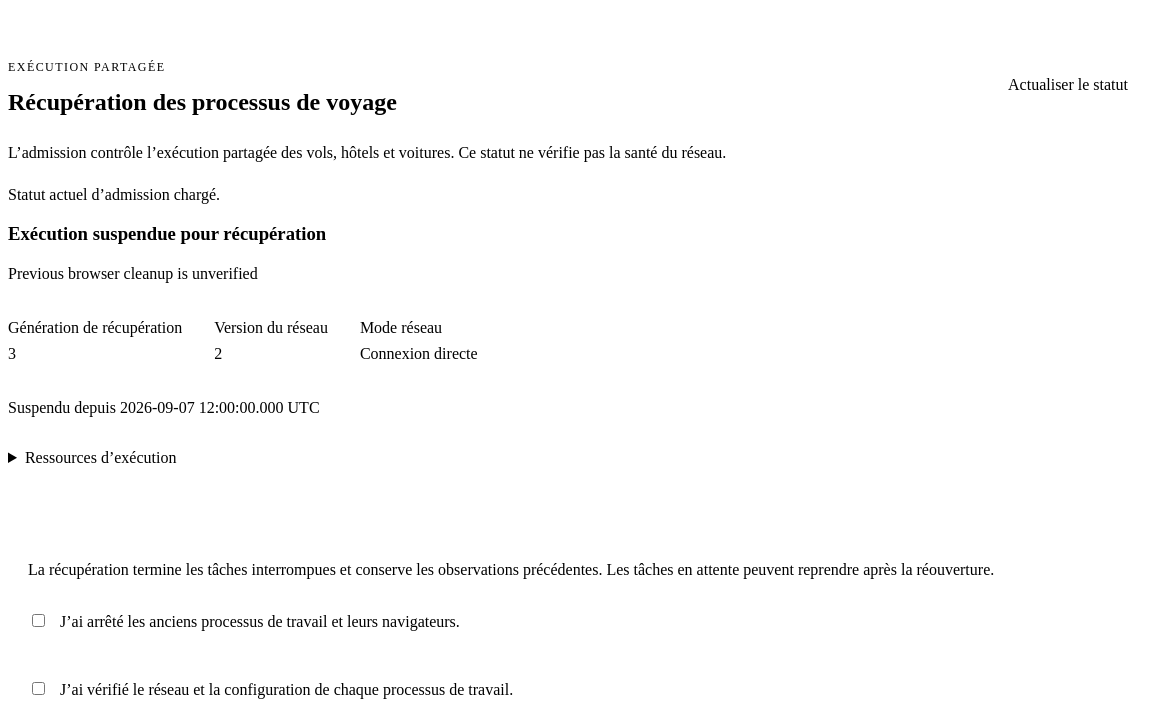
Scenario: explicit administrator travel recovery › requires both operator checks in fr and submits only the current generation
Check: the heading "Exécution suspendue pour récupération" is shown, box [8, 223, 326, 244]
Click the checkbox labelled "J’ai arrêté les anciens processus de travail et leurs navigateurs." at (38, 621), box [32, 614, 45, 627]
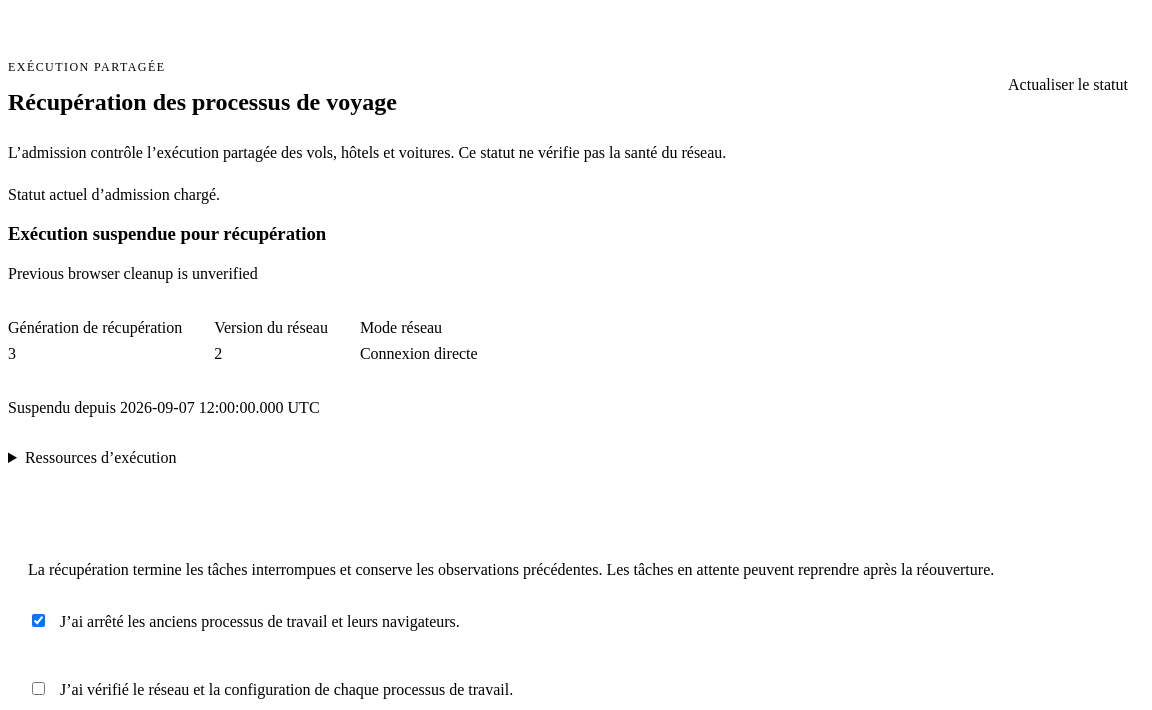
Click the checkbox labelled "J’ai vérifié le réseau et la configuration de chaque processus de travail." at (38, 689), box [32, 682, 45, 695]
(page scrolled)
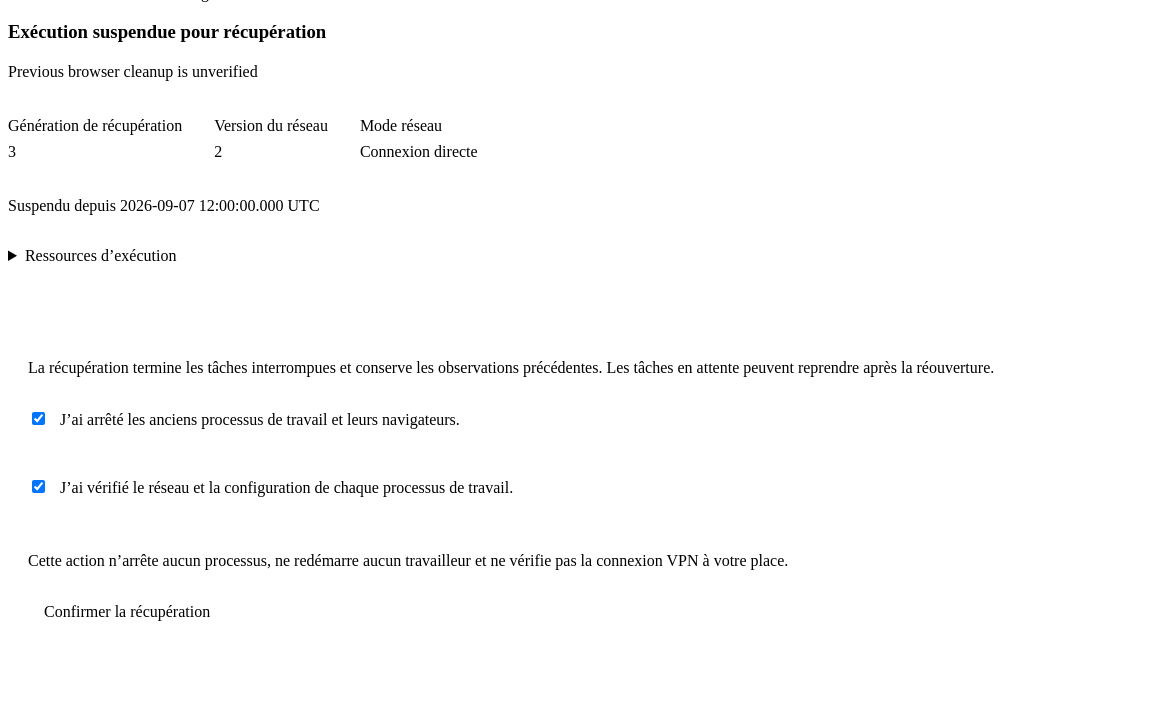
Click the button "Confirmer la récupération" at (127, 612), box [28, 590, 226, 634]
(page scrolled)
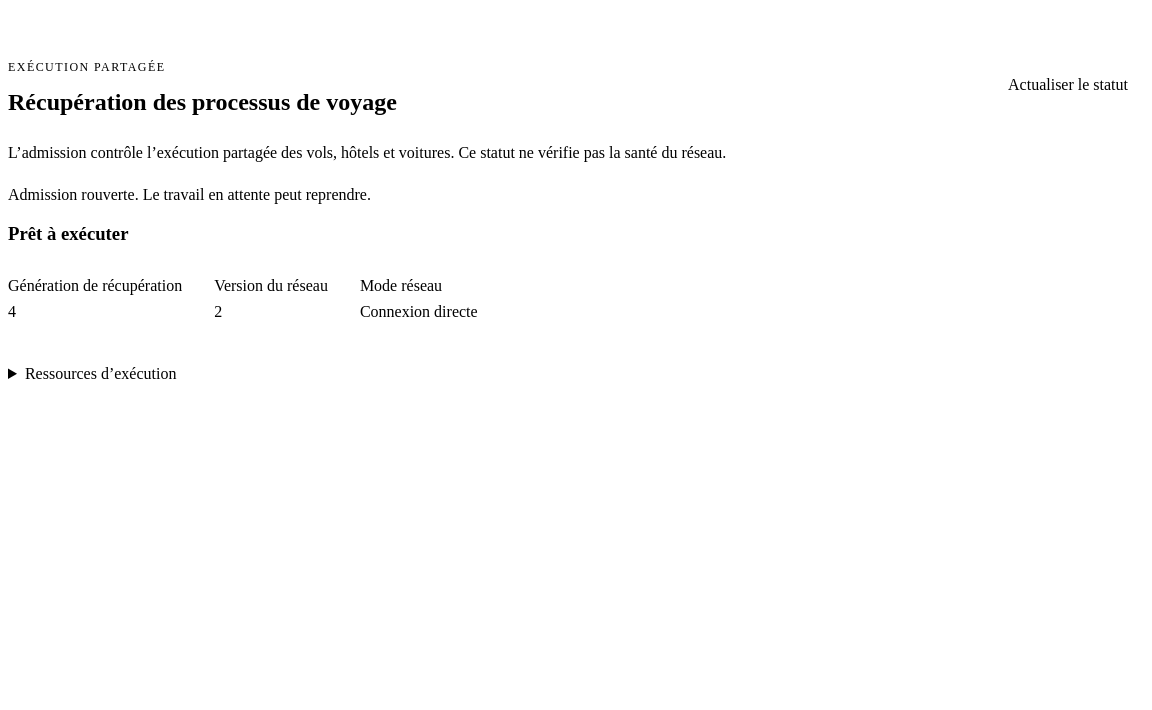
Check: the text "Admission rouverte. Le travail en attente peut reprendre." is shown, box [8, 186, 371, 203]
Check: the checkbox is gone
